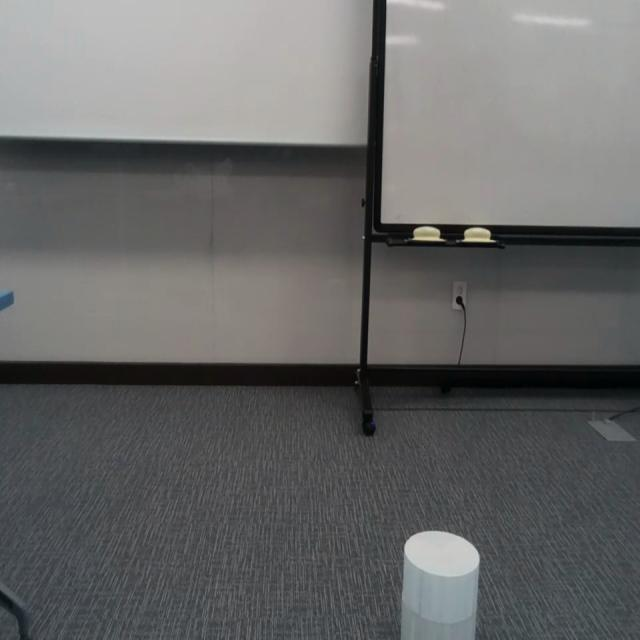cylinder: (401, 528, 481, 638)
